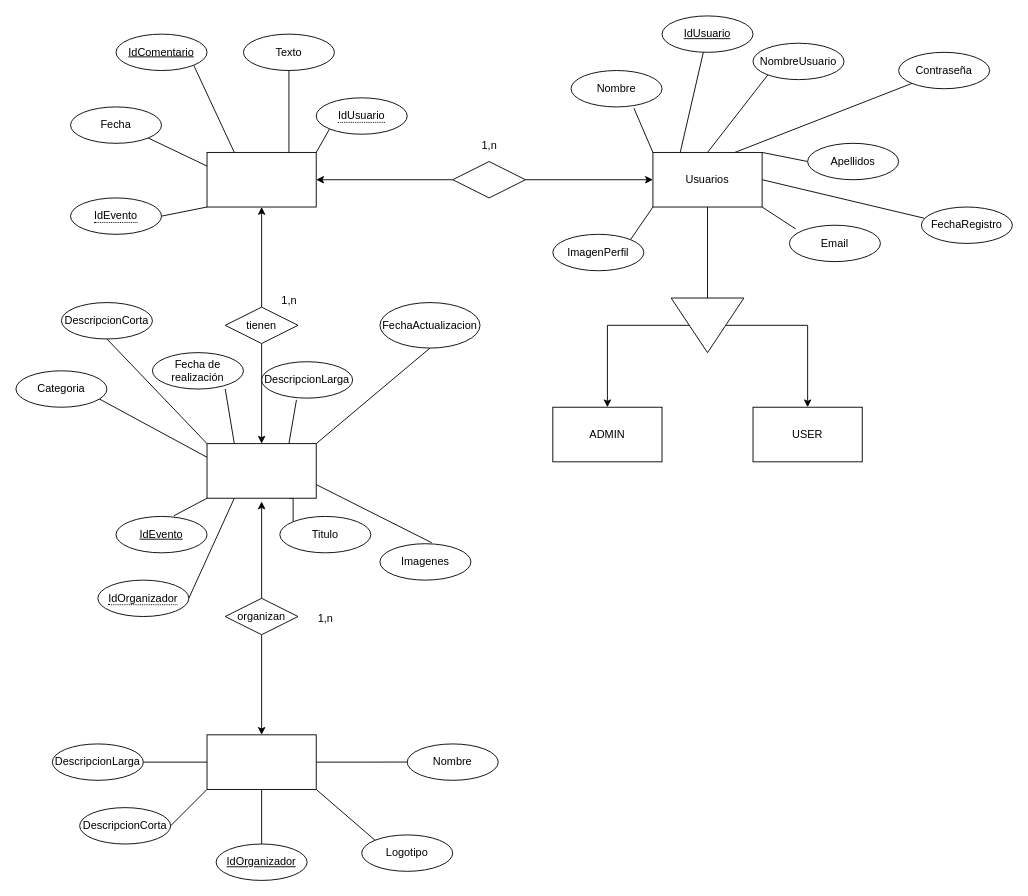
This 1028x896 diagram has some shape labels left out. Each missing label, with the centre of its shape:
Comentarios: the point at 261,179
es un: the point at 707,325
Eventos: the point at 261,470
Organizadores: the point at 261,761
realizan: the point at 489,179
